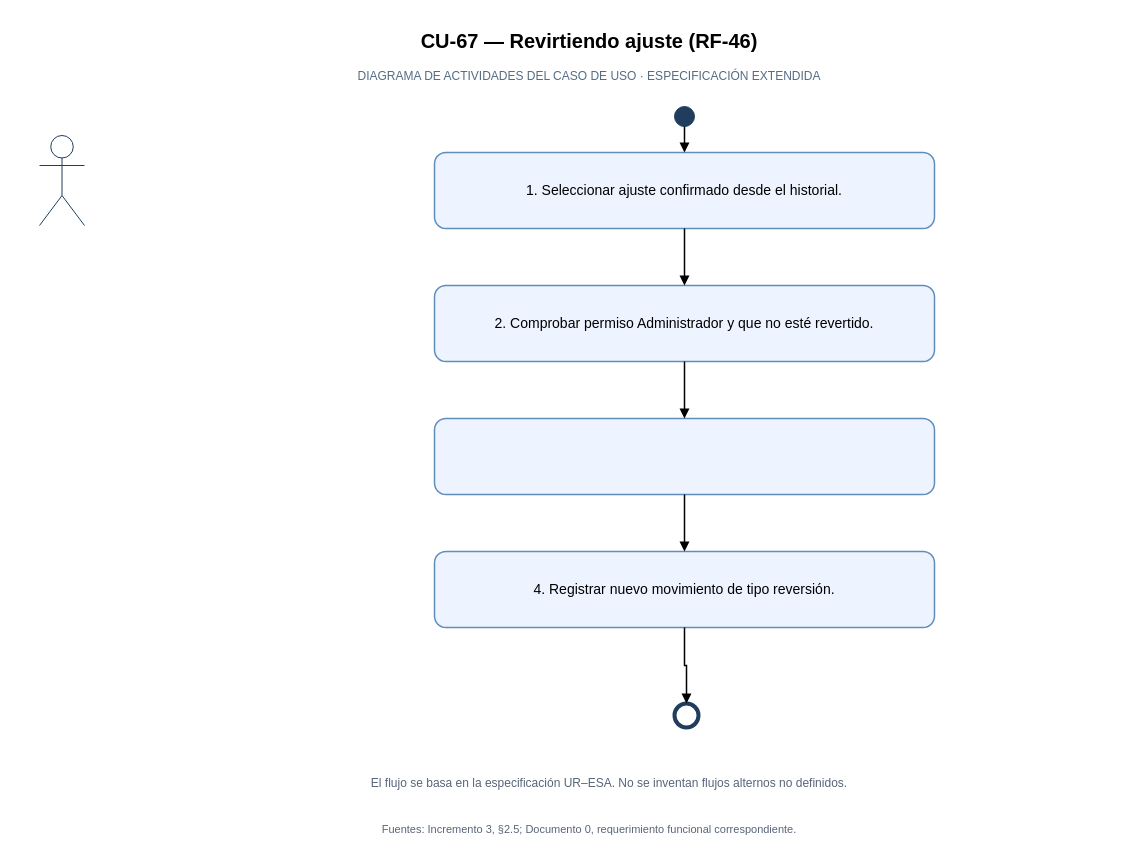
Image size: 1127x858. Some labels were removed from this diagram. Each missing label, with the centre of its shape:
3. Restaurar a cada producto el stock anterior al ajuste.: (684,456)
Administrador: (61,180)
